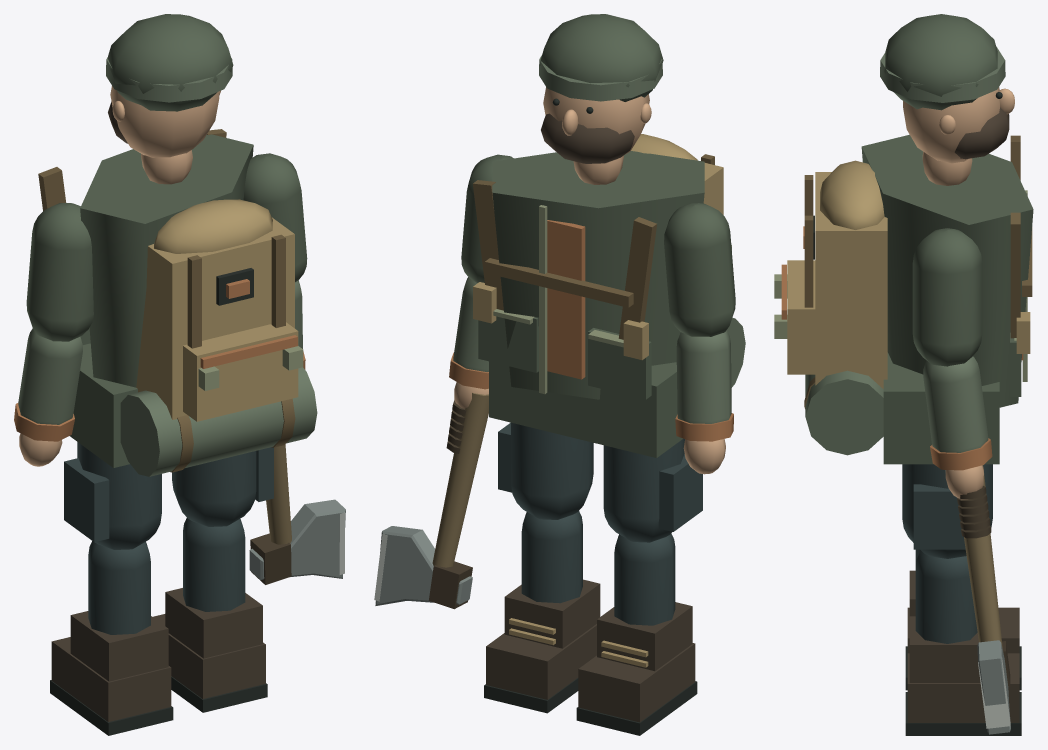
File: hollowpine-survivor.glb
3 views of the same model, side by side, from view 1: azimuth 30°, elevation 25°; view 2: azimuth 150°, elevation 25°; view 3: azimuth 270°, elevation 25° (orthographic). The views are drawn at different scales.
Parts seen in each view (by area): view 1: Batched_geometry (×11), Spine, Head, Shoulder_L, Knee_L, Elbow_L, Knee_R, Field_hatchet, Shoulder_R; view 2: Batched_geometry (×13), Head, Field_hatchet, Shoulder_L, Elbow_L, Knee_L, Knee_R, Elbow_R, Shoulder_R, Spine; view 3: Batched_geometry (×9), Head, Shoulder_R, Elbow_R, Spine, Knee_R, Field_hatchet.
Part boxes in pixels (<box>): Batched_geometry (×11): <box>38,86,303,721</box>; Spine: <box>120,150,317,476</box>; Head: <box>106,14,233,143</box>; Shoulder_L: <box>26,203,93,341</box>; Knee_L: <box>50,541,173,735</box>; Elbow_L: <box>14,328,82,466</box>; Knee_R: <box>171,518,267,712</box>; Field_hatchet: <box>249,444,345,579</box>; Shoulder_R: <box>243,153,307,282</box>; Batched_geometry (×13): <box>428,87,731,722</box>; Head: <box>539,14,663,163</box>; Field_hatchet: <box>374,393,488,605</box>; Shoulder_L: <box>664,203,735,336</box>; Elbow_L: <box>675,330,733,474</box>; Knee_L: <box>576,533,697,735</box>; Knee_R: <box>484,511,582,713</box>; Elbow_R: <box>449,277,488,408</box>; Shoulder_R: <box>461,154,513,282</box>; Spine: <box>573,155,745,387</box>; Batched_geometry (×9): <box>774,87,1033,722</box>; Head: <box>880,14,1009,159</box>; Shoulder_R: <box>912,228,982,366</box>; Elbow_R: <box>923,356,992,499</box>; Spine: <box>805,152,972,455</box>; Knee_R: <box>905,551,1021,735</box>; Field_hatchet: <box>964,465,1010,734</box>.
Bounding box in the file's own units: 0.9721 × 1.86 × 0.6473.
